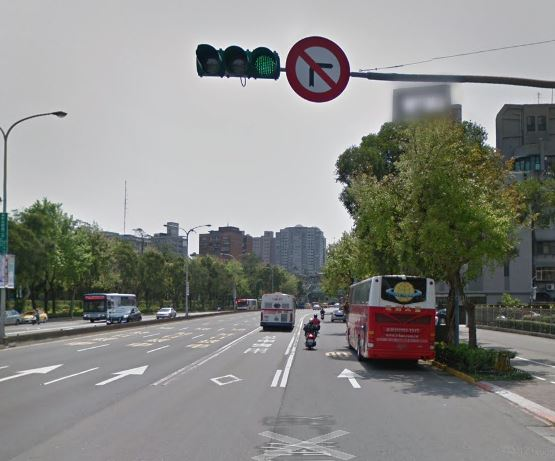Traffic_light_green: (195, 43, 282, 83)
